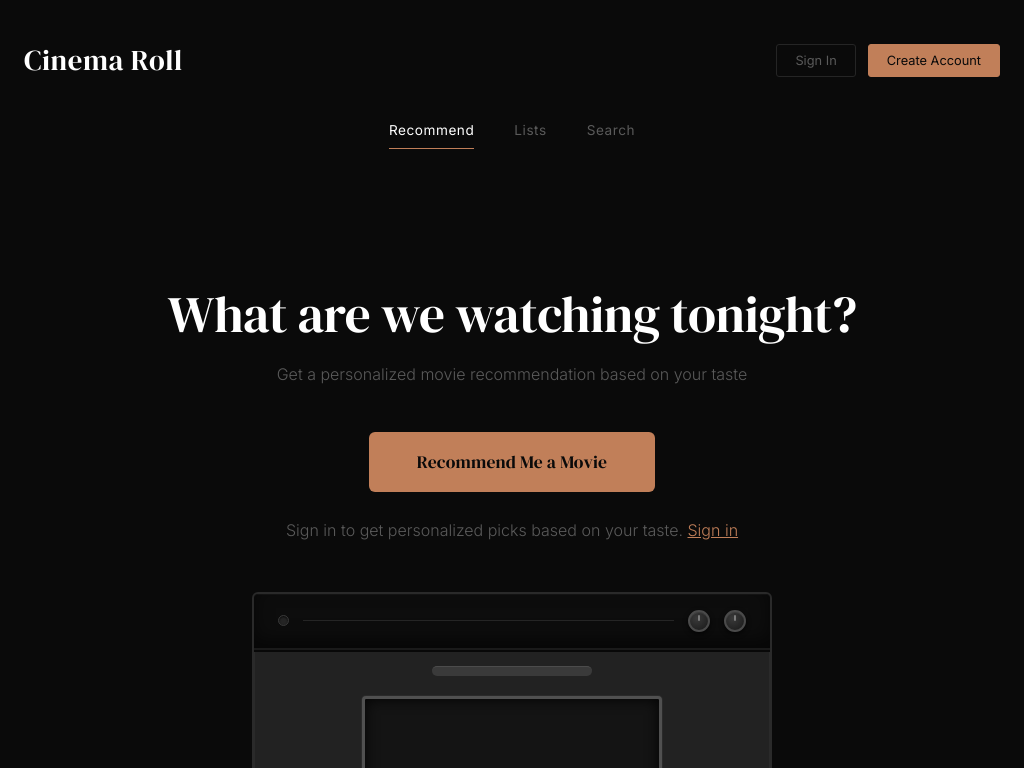
Scenario: App — auth modals › opens auth modal in signup mode when "Create Account" header button is clicked
Step 1. Click the button "Create Account" → (934, 60), box [868, 44, 1000, 76]
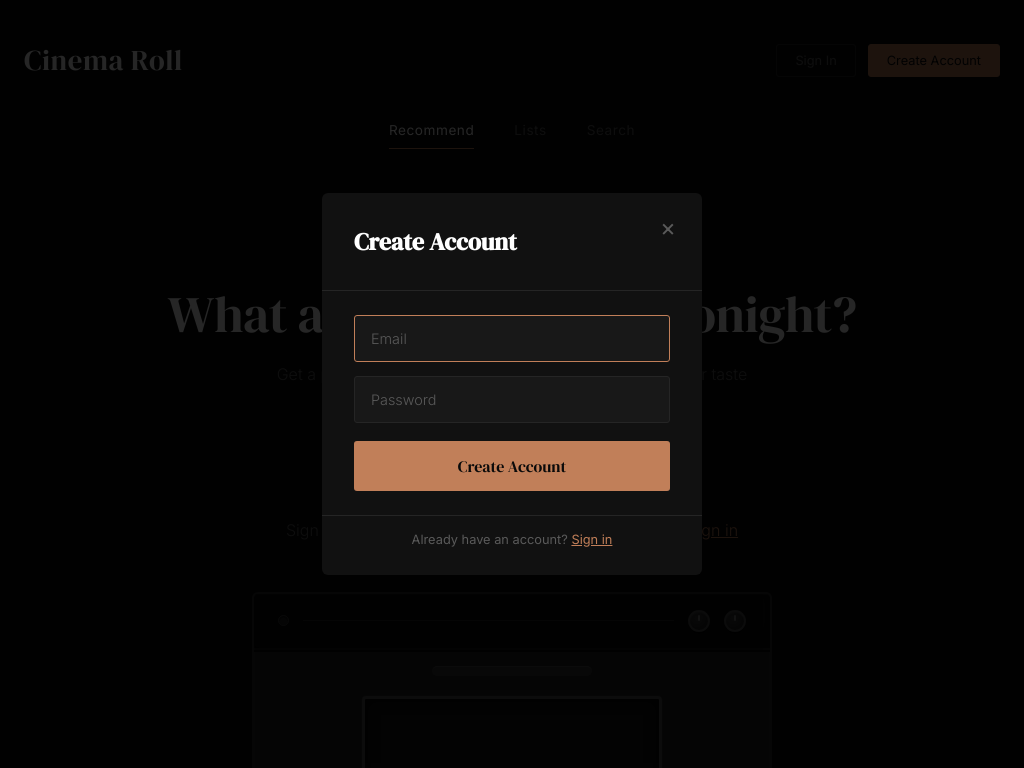
Now the heading "Create Account" is shown, box [354, 225, 517, 258]
